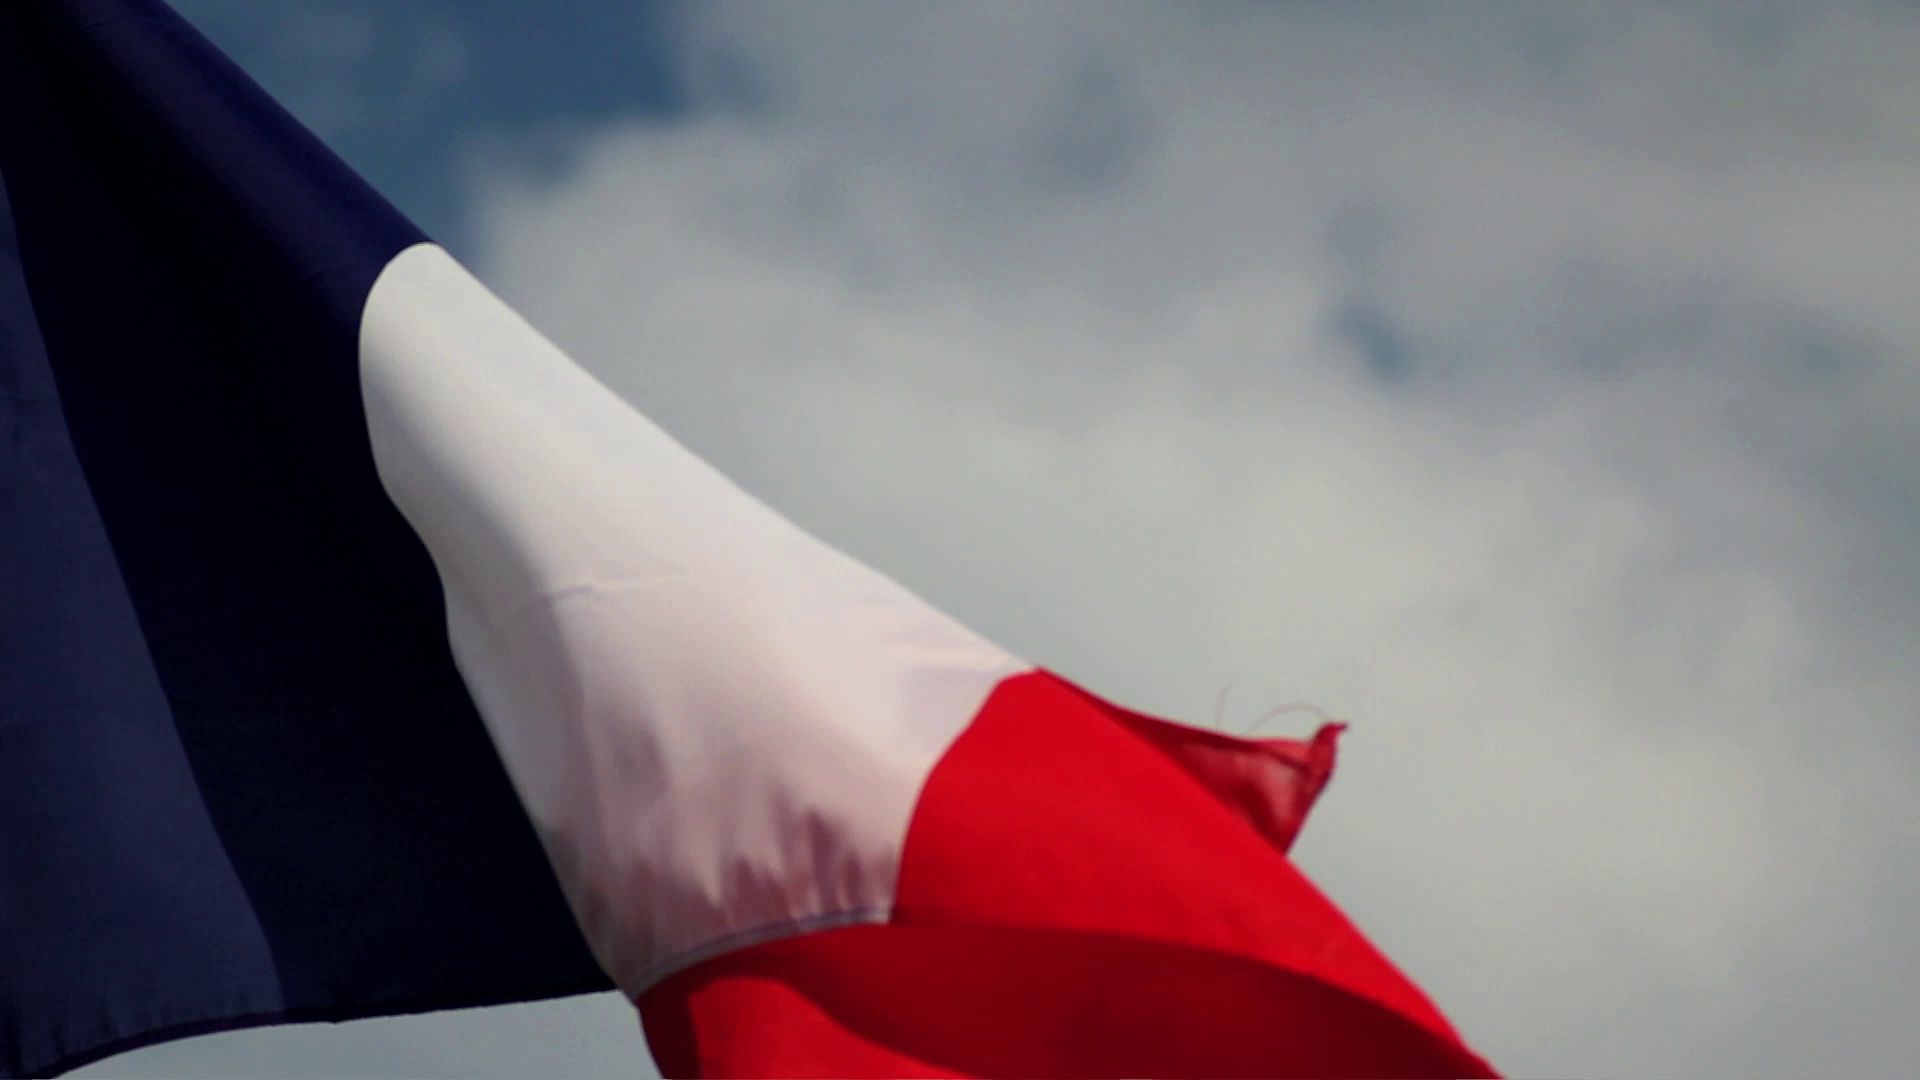French Flag: (1, 1, 1501, 1080)
